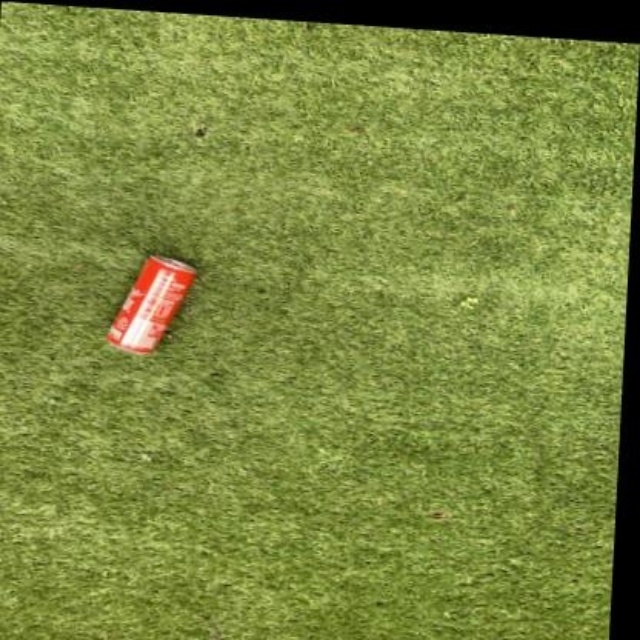trash: (106, 255, 195, 351)
